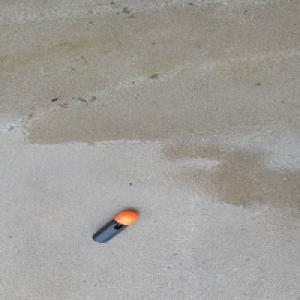PlasticPart: (90, 209, 138, 243)
